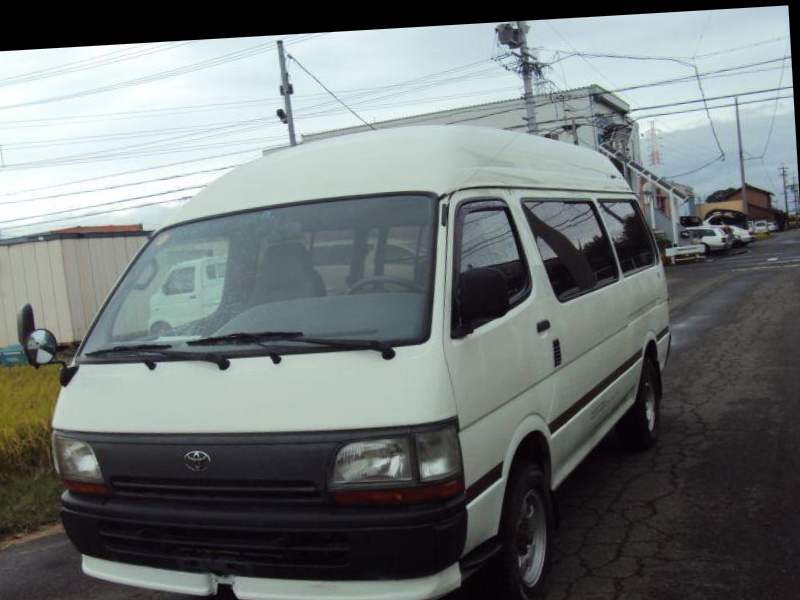van: (21, 102, 686, 600)
